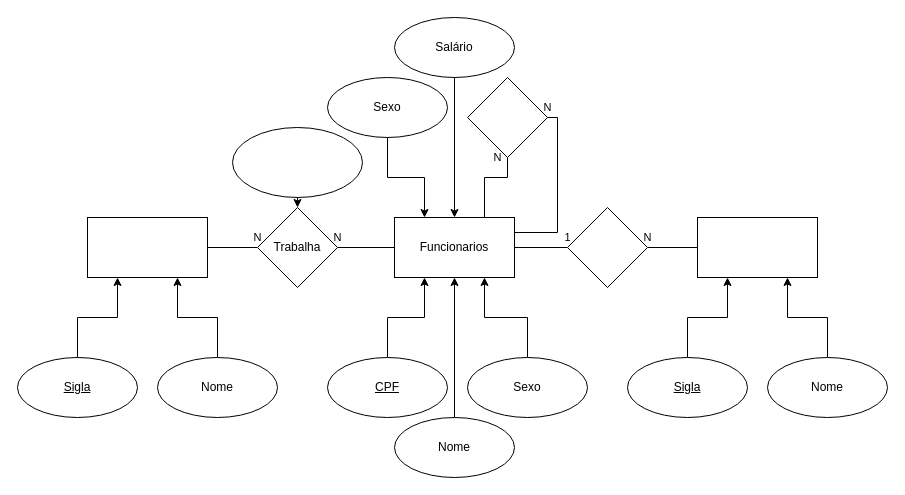
The diagram is 905 pixels wide and 495 high, and some of its shapes have lost their labels. The box of each missing label's shape, as (x1, y1, x2, y2) in pixels:
Alocado: (566, 206, 648, 288)
Departamento: (696, 216, 818, 278)
Horas Trabalhadas p/ Funcionário: (232, 126, 362, 198)
Projeto: (86, 216, 208, 278)
Supervisiona: (466, 76, 548, 158)
